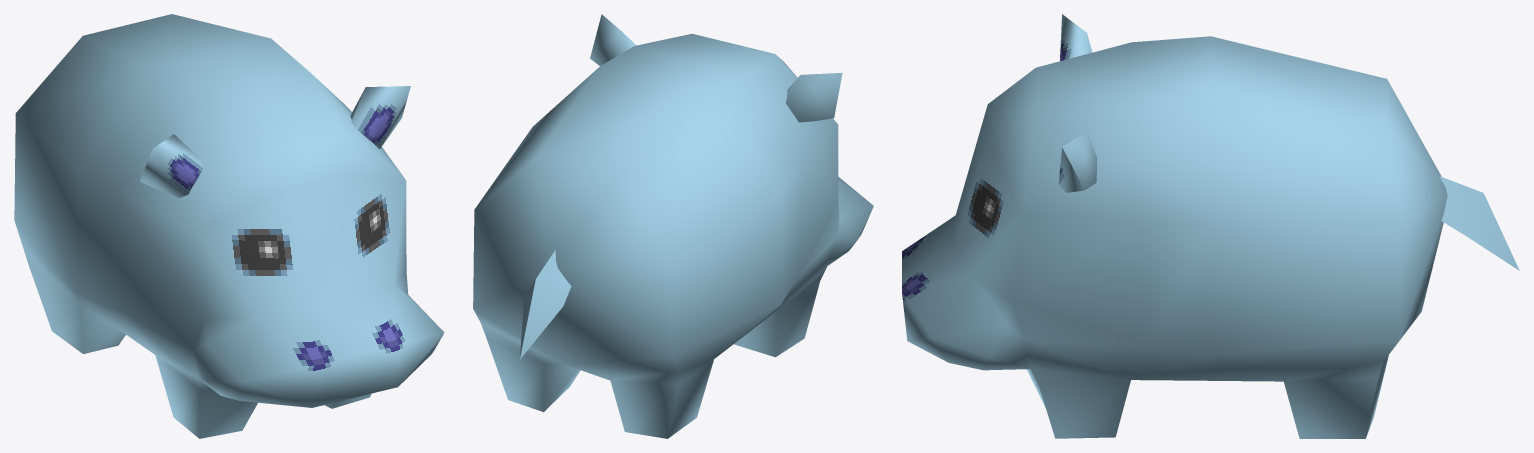
The model's file is hippo.obj.
3 renders of one model, left to right at view 1: azimuth 30°, elevation 25°; view 2: azimuth 150°, elevation 25°; view 3: azimuth 270°, elevation 25°, orthographic. The views are drawn at different scales.
Visible parts, largest first — view 1: polygon0, polygon1; view 2: polygon1, polygon0; view 3: polygon0, polygon1.
Boxes of the visible parts, x1,y1,x2,y2 form: polygon0: (76, 38, 444, 407); polygon1: (14, 14, 371, 438); polygon1: (473, 66, 819, 438); polygon0: (590, 14, 873, 308); polygon0: (902, 14, 1211, 382); polygon1: (1027, 36, 1519, 438).
Size of the model in its own units: 2.76 by 3.05 by 5.21.
